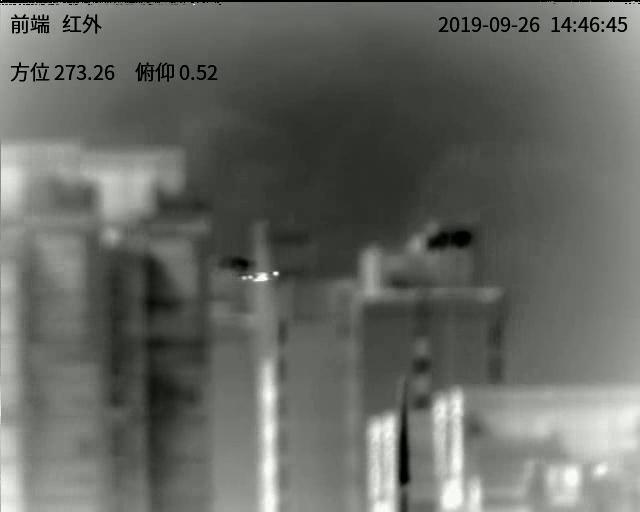DRONE: (241, 270, 281, 281)
